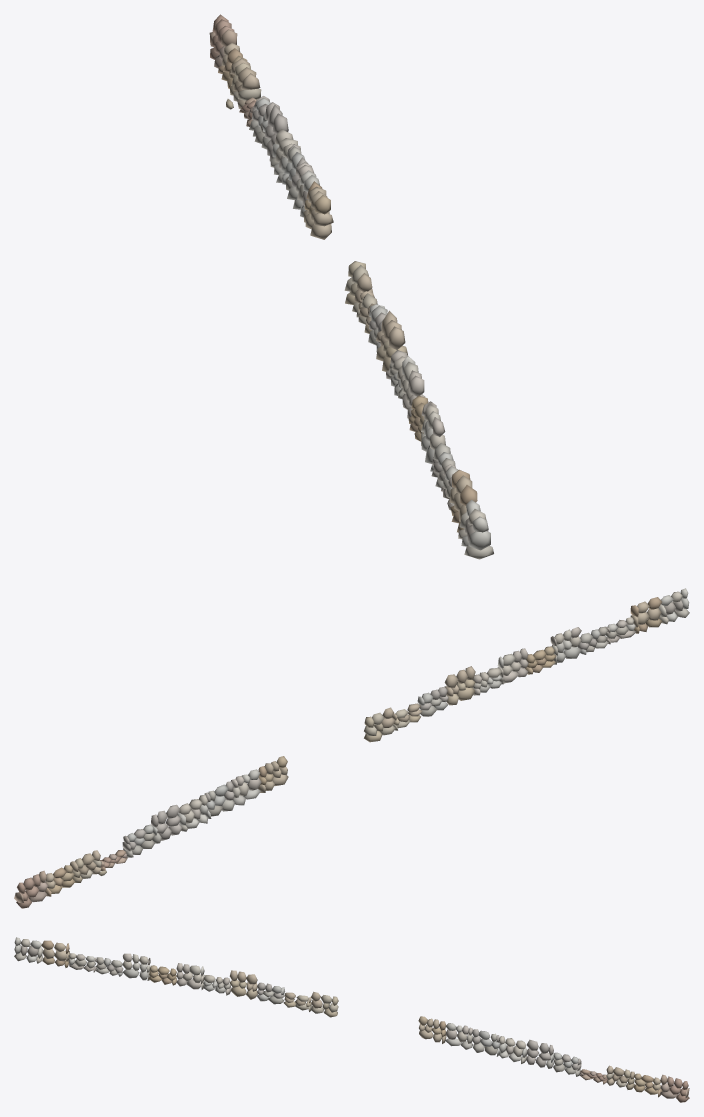
File: farm_16_12_near.glb
3 views of the same model, one above another, from view 1: azimuth 30°, elevation 25°; view 2: azimuth 150°, elevation 25°; view 3: azimuth 270°, elevation 25° (orthographic). The views are drawn at different scales.
Parts seen in each view (by area): view 1: geometry_0; view 2: geometry_0; view 3: geometry_0.
Boxes of the visible parts, x1,y1,x2,y2 form: geometry_0: (209,14,493,559); geometry_0: (14,588,689,908); geometry_0: (14,937,689,1102).
Bounding box in the file's own units: 13.66 × 4.06 × 37.23.
